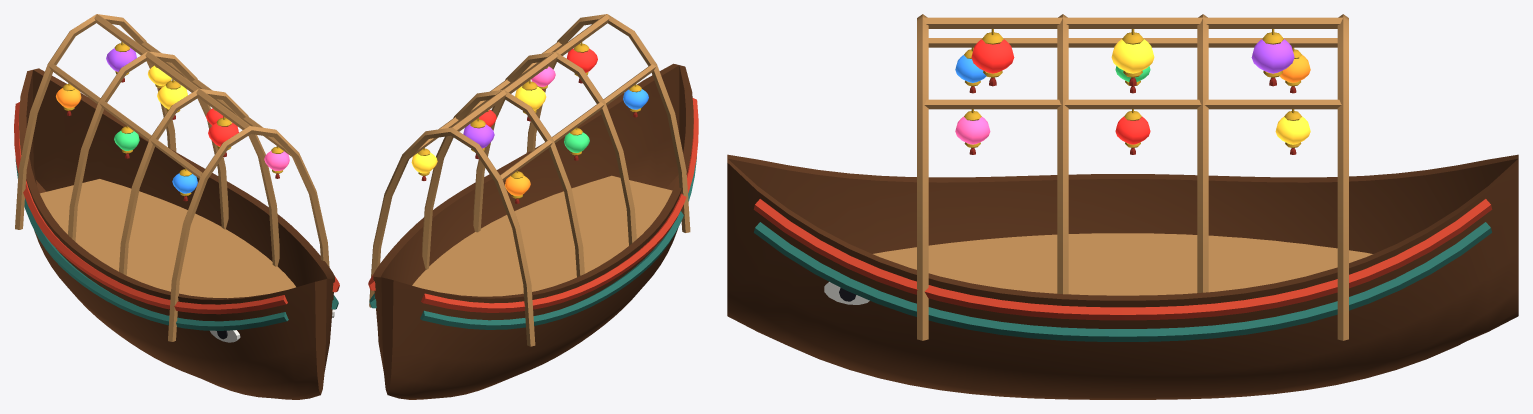
Rendered from lantern_boat.glb.
3 renders of one model, left to right at view 1: azimuth 30°, elevation 25°; view 2: azimuth 150°, elevation 25°; view 3: azimuth 270°, elevation 25°, orthographic. The views are drawn at different scales.
Parts seen in each view (by area): view 1: lantern_boat; view 2: lantern_boat; view 3: lantern_boat.
Part boxes in pixels (x1,y1,x2,y2): lantern_boat: (14, 14, 339, 399); lantern_boat: (368, 14, 698, 399); lantern_boat: (727, 14, 1518, 399).
Bounding box in the file's own units: 1.57 × 2.03 × 3.95.
